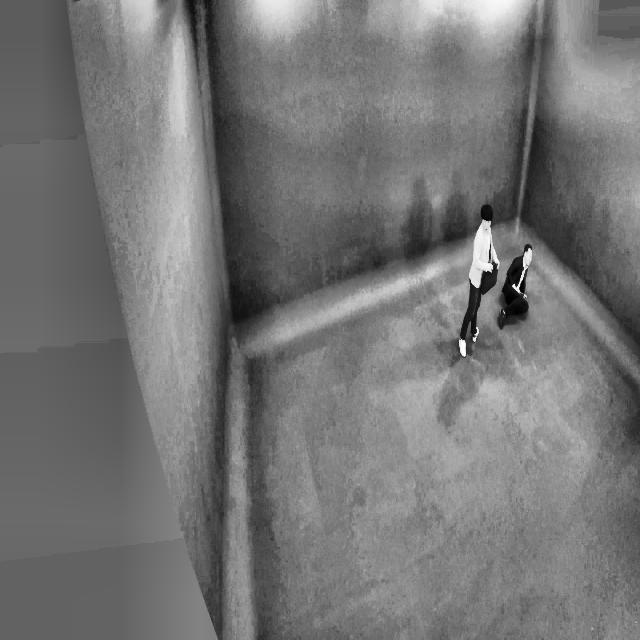assult: (458, 193, 534, 361)
